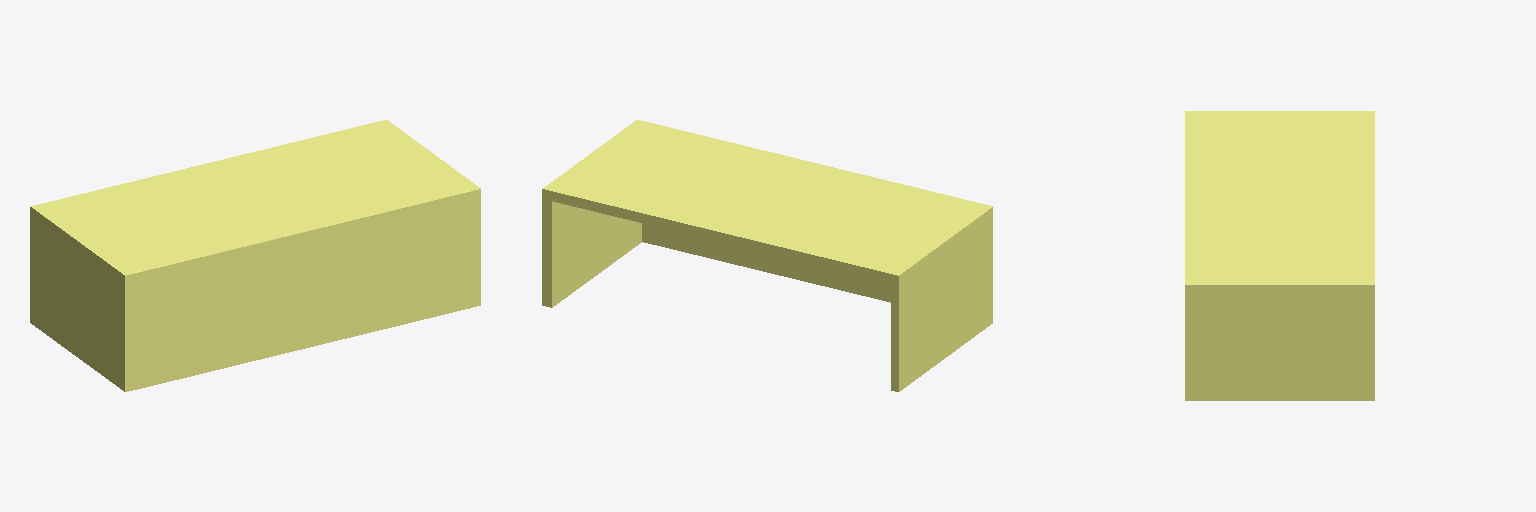
The model's file is stol.obj.
3 views of the same model, side by side, from view 1: azimuth 30°, elevation 25°; view 2: azimuth 150°, elevation 25°; view 3: azimuth 270°, elevation 25° (orthographic).
Parts seen in each view (by area): view 1: Mesh1 Model; view 2: Mesh1 Model; view 3: Mesh1 Model.
Part boxes in pixels (x1,y1,x2,y2): Mesh1 Model: (30,120,480,391); Mesh1 Model: (542,120,993,391); Mesh1 Model: (1185,111,1374,400).
Bounding box in the file's own units: 16520 × 5167 × 7615.